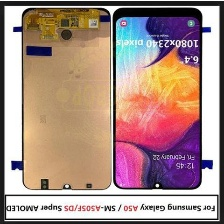phone: (17, 5, 115, 192), (111, 5, 203, 193)
